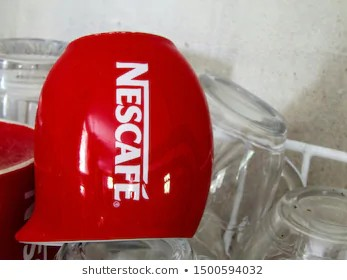nescafe-mug: (15, 25, 215, 250)
